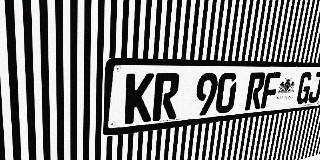0: (215, 73, 238, 114)
9: (194, 73, 219, 116)
F: (261, 72, 281, 109)
G: (295, 72, 313, 105)
J: (307, 72, 320, 103)
K: (124, 73, 155, 124)
R: (152, 73, 180, 121), (245, 72, 266, 111)
